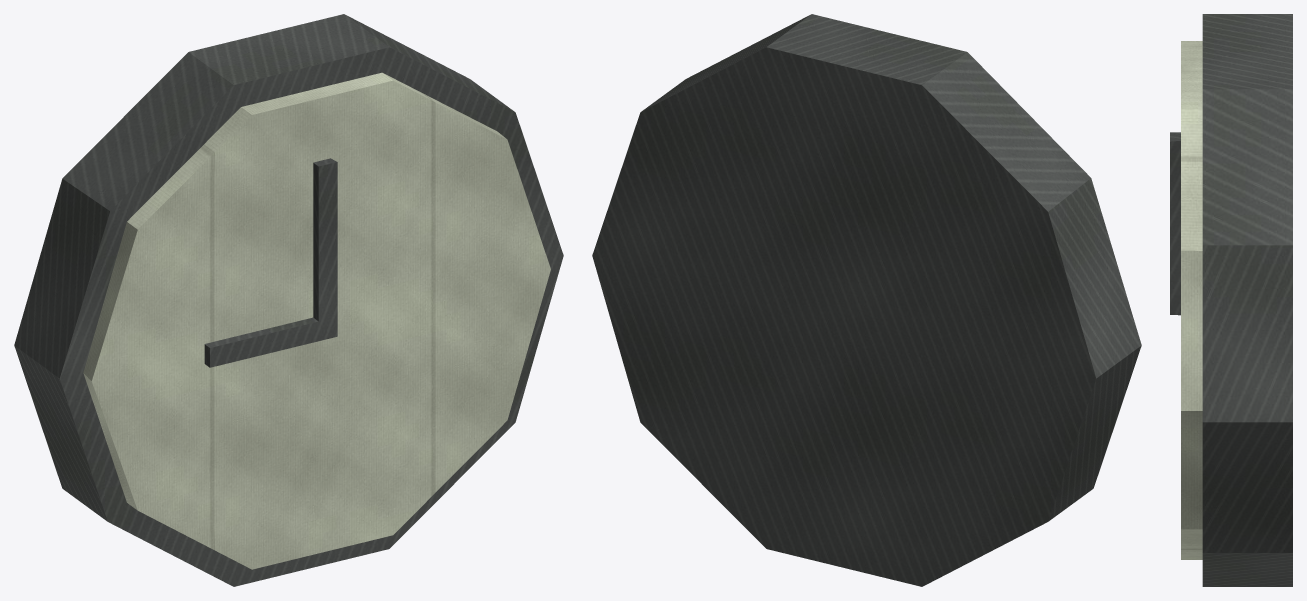
File: wallclock_v1.glb
3 views of the same model, side by side, from view 1: azimuth 30°, elevation 25°; view 2: azimuth 150°, elevation 25°; view 3: azimuth 270°, elevation 25° (orthographic).
Parts seen in each view (by area): view 1: Variant_wallclock_1; view 2: Variant_wallclock_1; view 3: Variant_wallclock_1.
Boxes of the visible parts, bbox=[...] form: Variant_wallclock_1: bbox=[14, 14, 563, 586]; Variant_wallclock_1: bbox=[592, 14, 1141, 586]; Variant_wallclock_1: bbox=[1170, 14, 1292, 586].
Size of the model in its own units: 0.32 by 0.3043 by 0.068.
2 materials, 2 textured.
